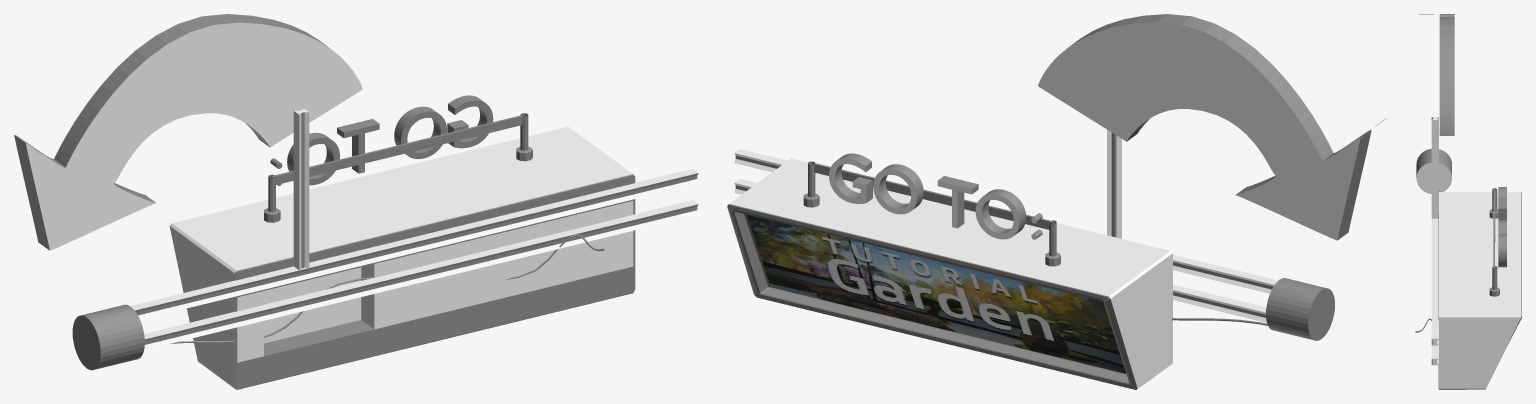
Rendered from Portal-Sign-Return.fbx.
The picture shows the model from 3 angles, left to right: view 1: azimuth 30°, elevation 25°; view 2: azimuth 150°, elevation 25°; view 3: azimuth 270°, elevation 25°; orthographic projection. The views are drawn at different scales.
Visible parts, largest first — view 1: Text.001; view 2: Text.001; view 3: Text.001.
Boxes of the visible parts, x1,y1,x2,y2 form: Text.001: (14,14,698,389); Text.001: (727,14,1386,389); Text.001: (1415,14,1521,389).
Bounding box in the file's own units: 322 × 171 × 70.66.
3 materials, 1 textured.
